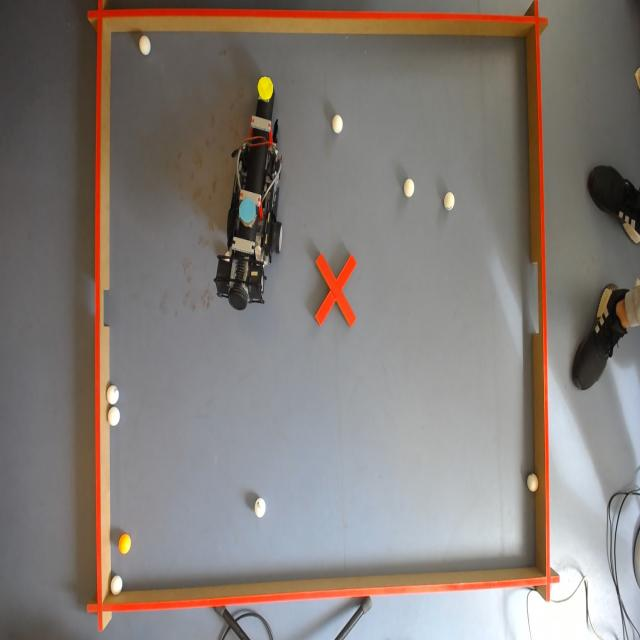orange: (120, 534, 132, 557)
robot: (214, 68, 282, 318)
robot-front: (258, 76, 274, 102)
robot-rear: (238, 193, 256, 229)
white: (137, 37, 151, 59), (255, 498, 268, 521), (108, 407, 122, 428), (106, 385, 120, 405), (111, 576, 125, 596), (332, 114, 345, 134), (527, 473, 539, 494), (404, 179, 417, 198), (443, 192, 456, 211)
